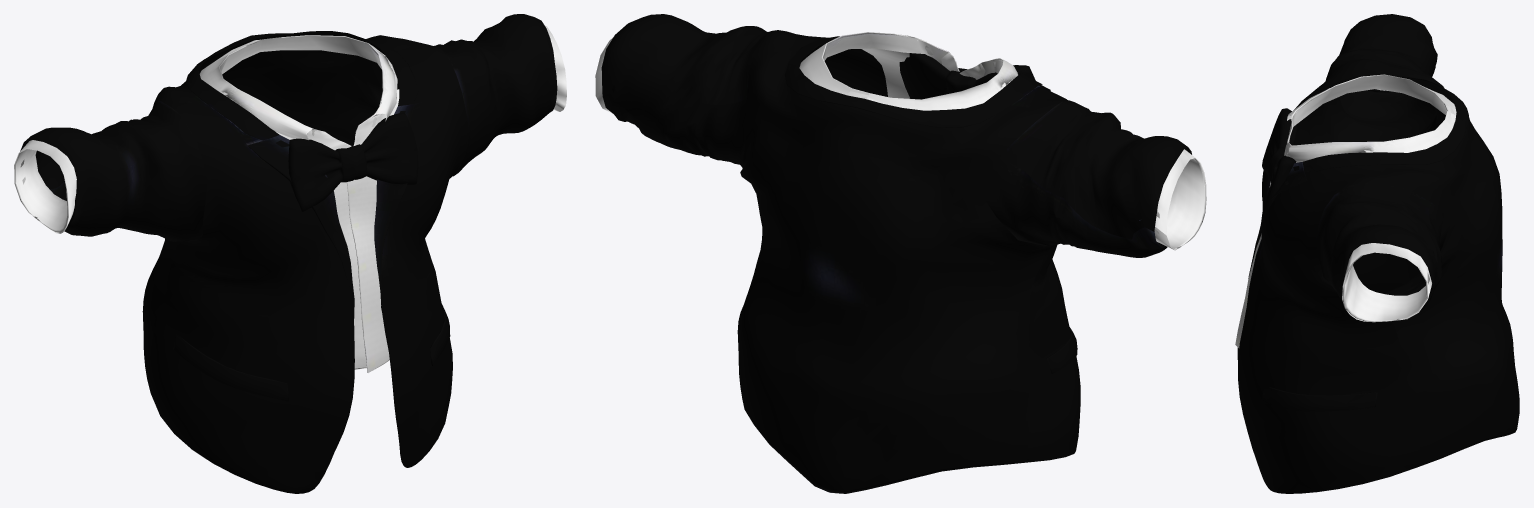
File: Tux-Stealth.glb
The picture shows the model from 3 angles, left to right: view 1: azimuth 30°, elevation 25°; view 2: azimuth 150°, elevation 25°; view 3: azimuth 270°, elevation 25°; orthographic projection. The views are drawn at different scales.
Parts seen in each view (by area): view 1: Tux-Stealth; view 2: Tux-Stealth; view 3: Tux-Stealth.
Part boxes in pixels (x1,y1,x2,y2): Tux-Stealth: [14, 14, 566, 493]; Tux-Stealth: [595, 14, 1206, 493]; Tux-Stealth: [1235, 14, 1519, 493].
Bounding box in the file's own units: 0.6714 × 0.4645 × 0.3375.
2 materials, 1 textured.
